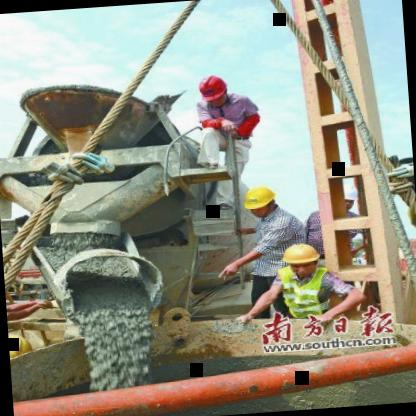helmet: (280, 239, 324, 278), (240, 182, 280, 219), (194, 72, 232, 110), (325, 180, 362, 216)
